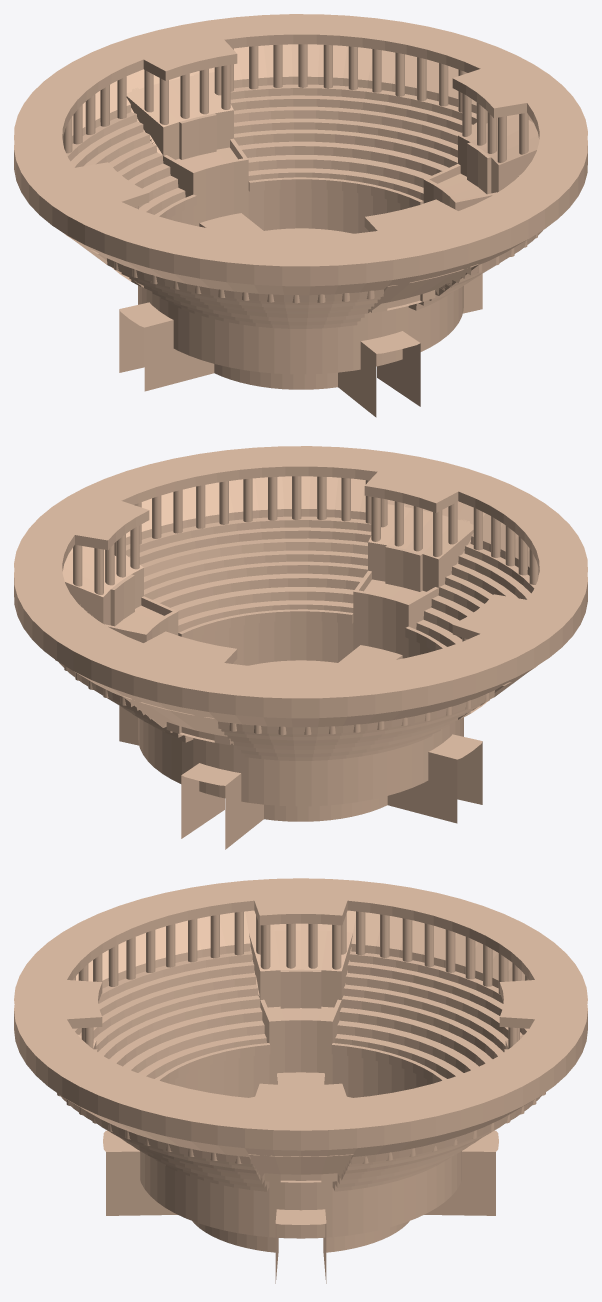
File: ColiseoBO.fbx
3 views of the same model, one above another, from view 1: azimuth 30°, elevation 25°; view 2: azimuth 150°, elevation 25°; view 3: azimuth 270°, elevation 25° (orthographic).
Parts seen in each view (by area): view 1: Cylinder; view 2: Cylinder; view 3: Cylinder.
Boxes of the visible parts, left/top/right/bottom form: Cylinder: left=14, top=14, right=587, bottom=417; Cylinder: left=14, top=446, right=587, bottom=849; Cylinder: left=14, top=878, right=587, bottom=1283.
Size of the model in its own units: 5692 by 2250 by 5692.
